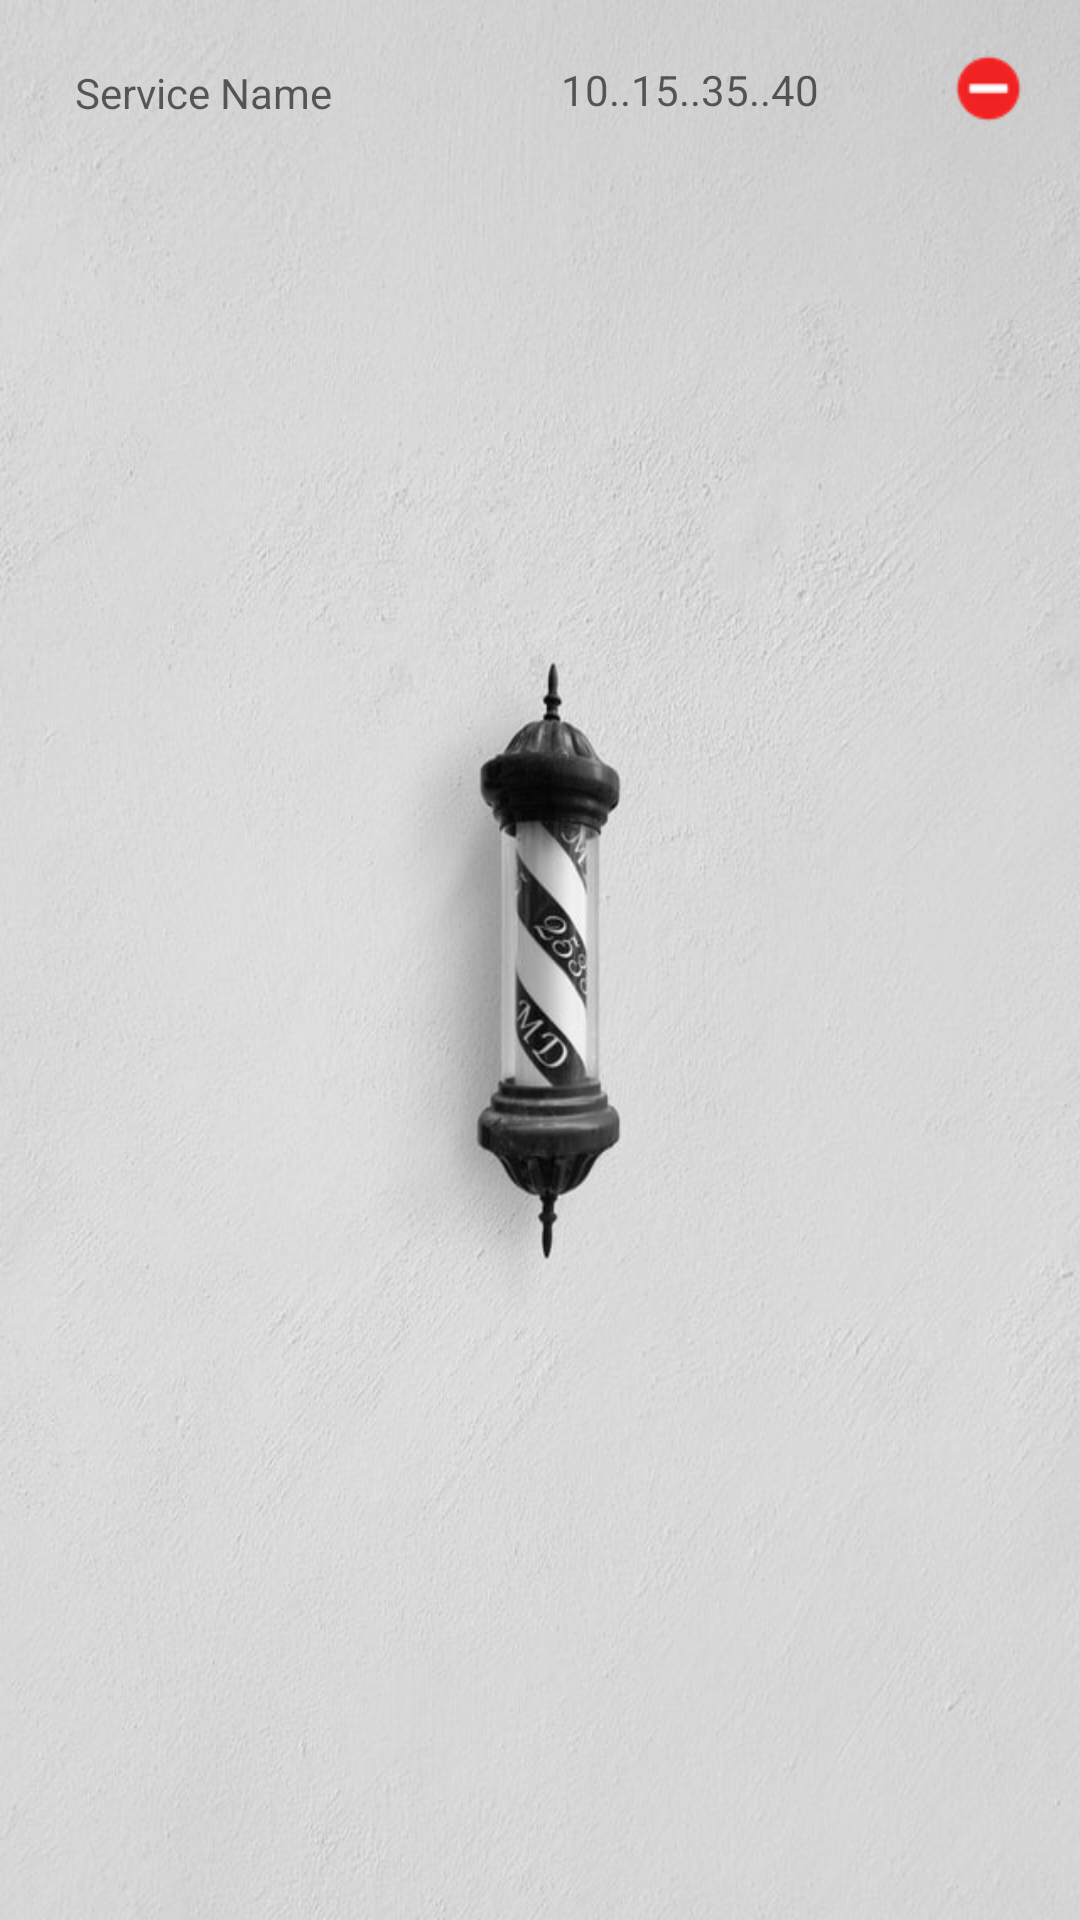

Where to tap for icons on this 1080×1920 app screen, as (x,y):
block: (988,88)
